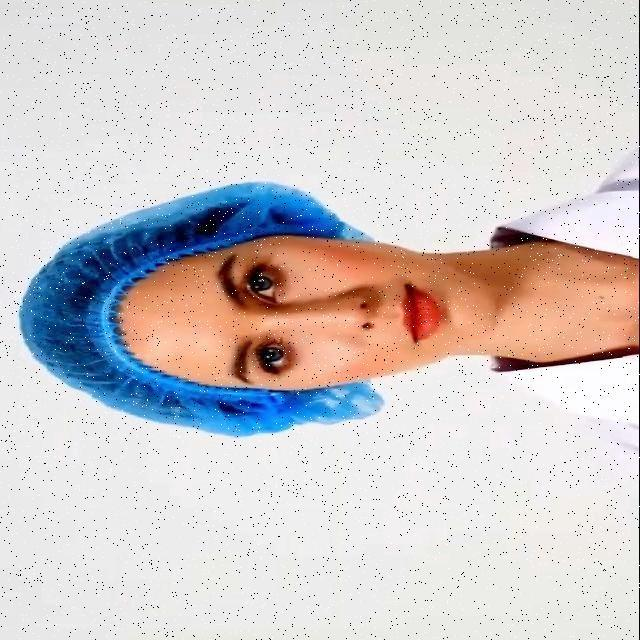gloves: (28, 241, 152, 392)
no_hairnet: (324, 254, 458, 384)
